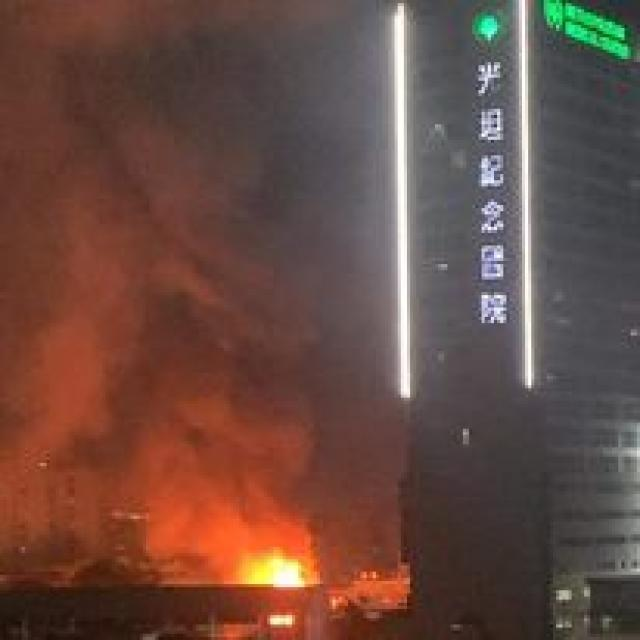Fire: (231, 549, 315, 589)
Smoke: (3, 1, 311, 572)
